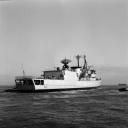Fragata: (14, 52, 104, 94)
